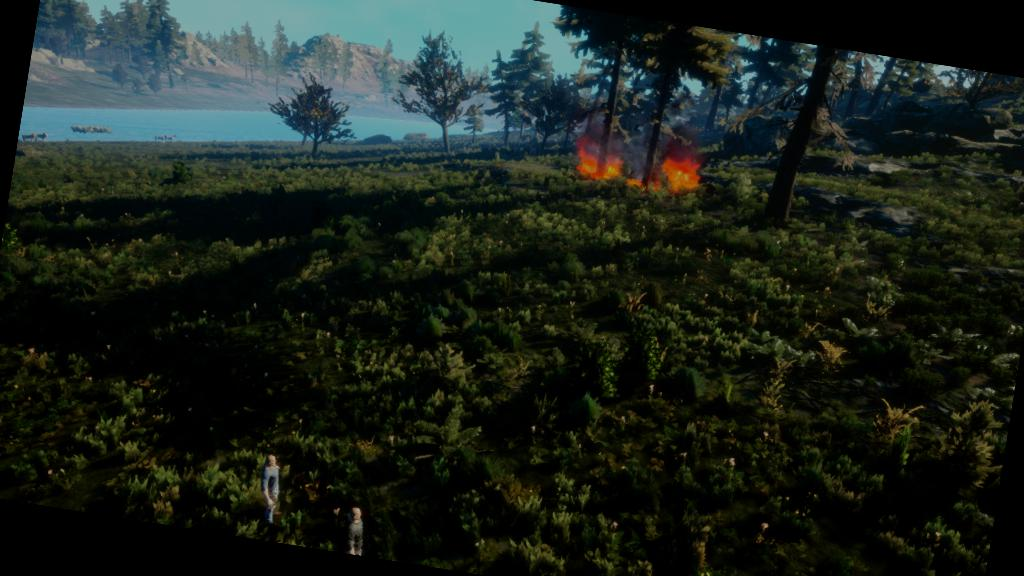Fire: (567, 123, 705, 200)
human: (242, 445, 300, 534), (331, 502, 387, 558)
lion: (18, 130, 38, 144), (34, 130, 49, 142)
rhinoceros: (66, 120, 96, 138), (90, 122, 116, 136)
zebra: (151, 132, 170, 146), (164, 131, 180, 144)
